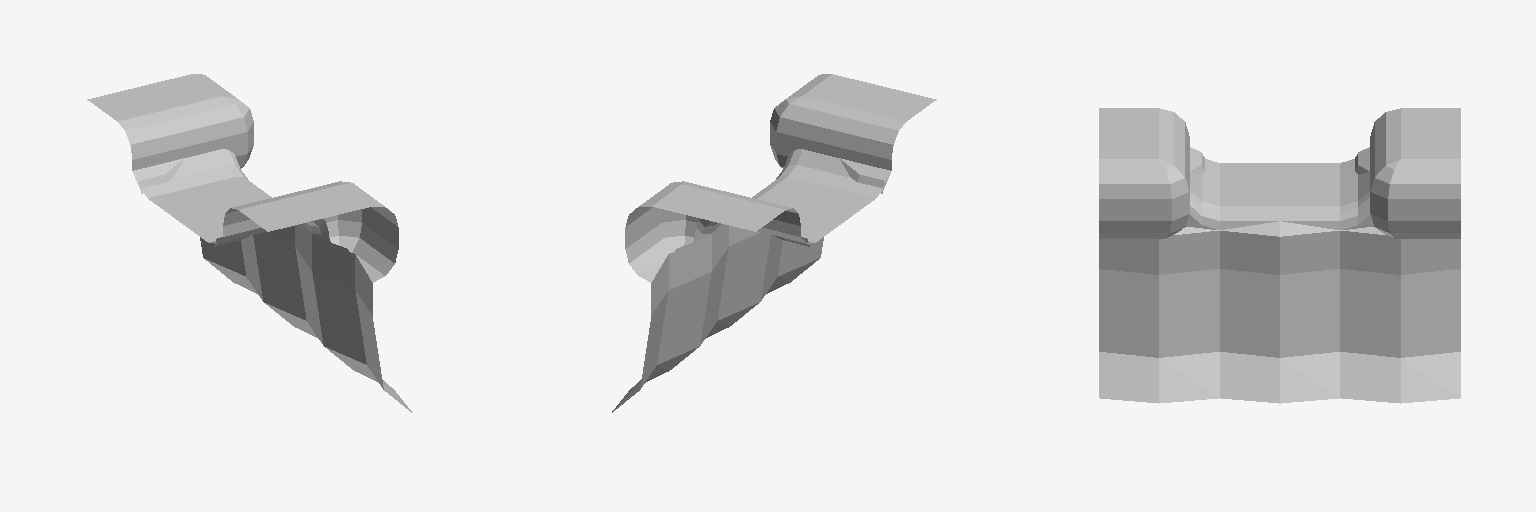
Rendered from Track_Cliff_Edge_Striped_2_Tall_Single.obj.
3 renders of one model, left to right at view 1: azimuth 30°, elevation 25°; view 2: azimuth 150°, elevation 25°; view 3: azimuth 270°, elevation 25°, orthographic.
Visible parts, largest first — view 1: Grass, Rock, Dirt, object2; view 2: Grass, Rock, Dirt, object1; view 3: Rock, Grass, Dirt.
Part boxes in pixels (bbox=[...]): Grass: bbox=[87, 74, 398, 282]; Rock: bbox=[200, 224, 411, 412]; Dirt: bbox=[133, 149, 330, 243]; object2: bbox=[133, 158, 183, 193]; Grass: bbox=[625, 74, 936, 282]; Rock: bbox=[612, 224, 823, 412]; Dirt: bbox=[693, 149, 890, 243]; object1: bbox=[840, 158, 890, 193]; Rock: bbox=[1099, 221, 1460, 403]; Grass: bbox=[1099, 108, 1460, 238]; Dirt: bbox=[1186, 159, 1373, 229].
Size of the model in its own units: 1.5 by 2 by 3.